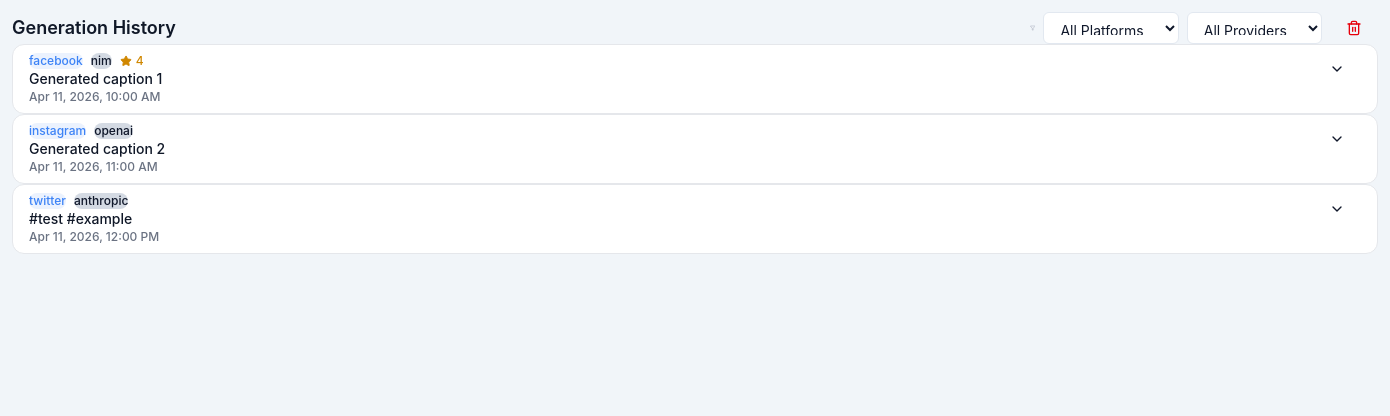
it: GenerationHistory › interaction › expands item to show full details
Click the 1st button named "expand" at [1337, 69], box [1313,53,1361,85]
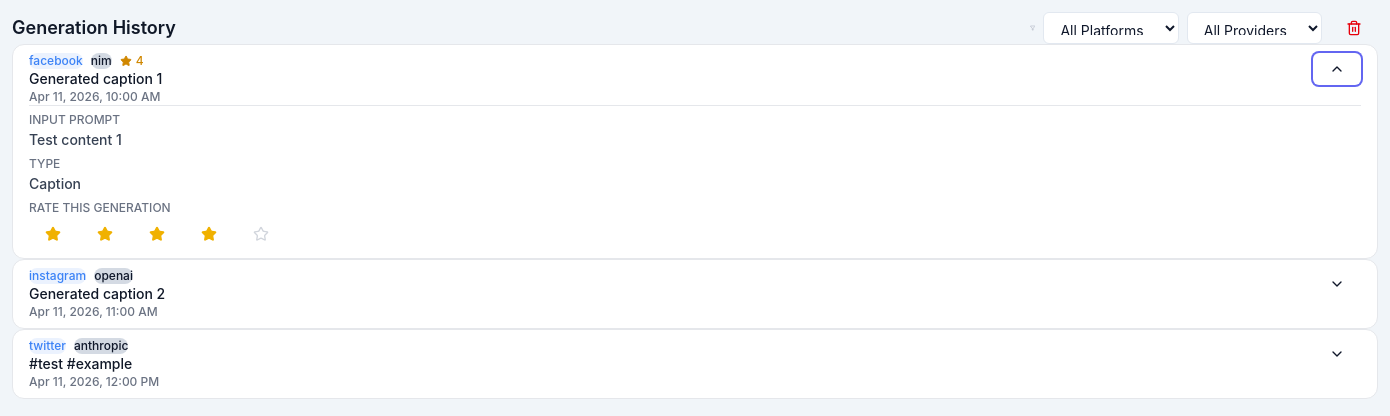
Expected: the text "Test content 1" is shown, [29,131,122,148]
